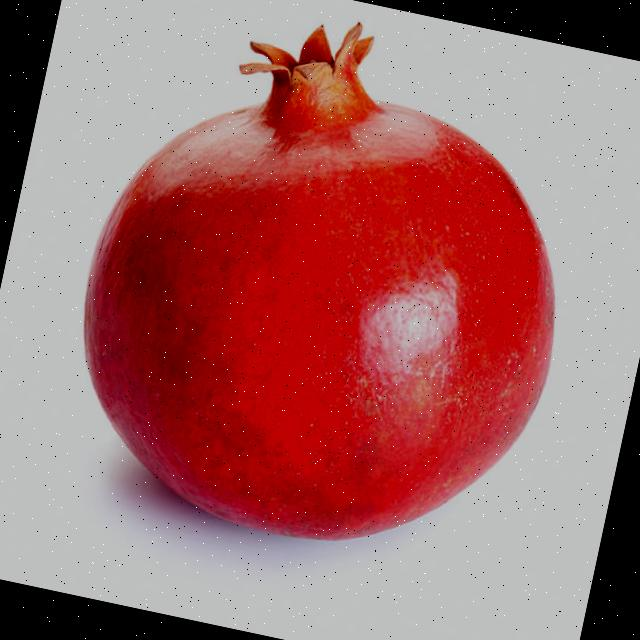Pomegranate: (41, 0, 614, 585)
